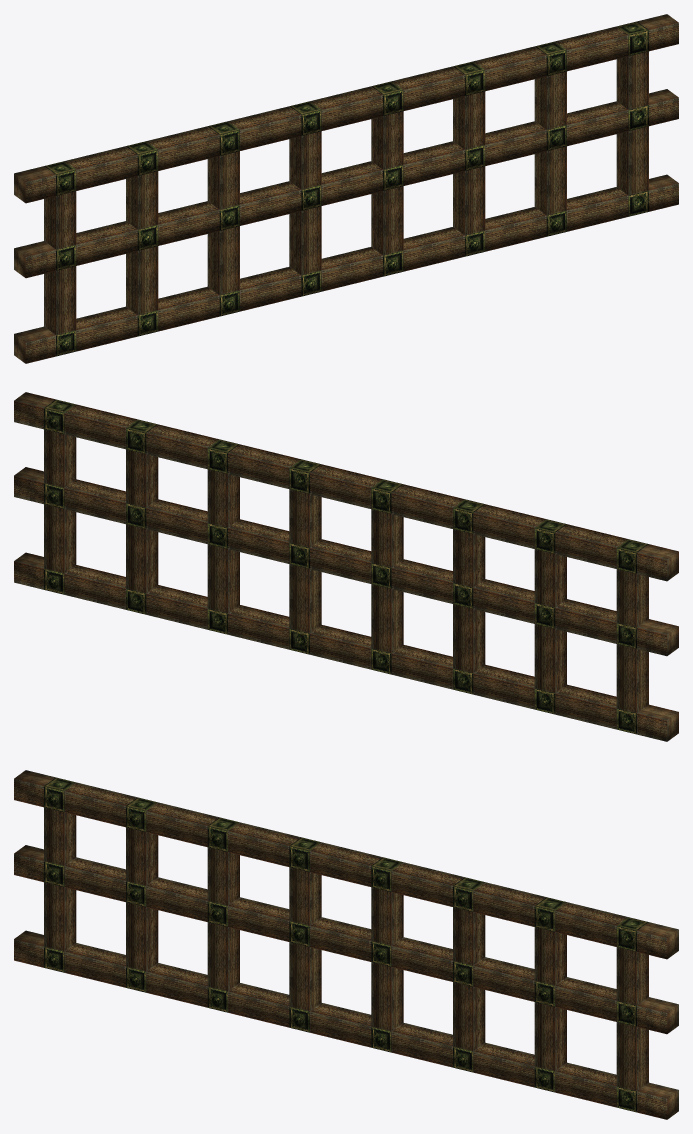
The model's file is gate-top.obj.
The picture shows the model from 3 angles, top to bottom: view 1: azimuth 30°, elevation 25°; view 2: azimuth 150°, elevation 25°; view 3: azimuth 330°, elevation 25°; orthographic projection.
Parts seen in each view (by area): view 1: Object002; view 2: Object002; view 3: Object002.
Part boxes in pixels (left/top/right/bottom): Object002: left=14, top=14, right=678, bottom=363; Object002: left=14, top=392, right=678, bottom=741; Object002: left=14, top=770, right=678, bottom=1119.
Bounding box in the file's own units: 4089 × 1088 × 128.
2 materials, 2 textured.
